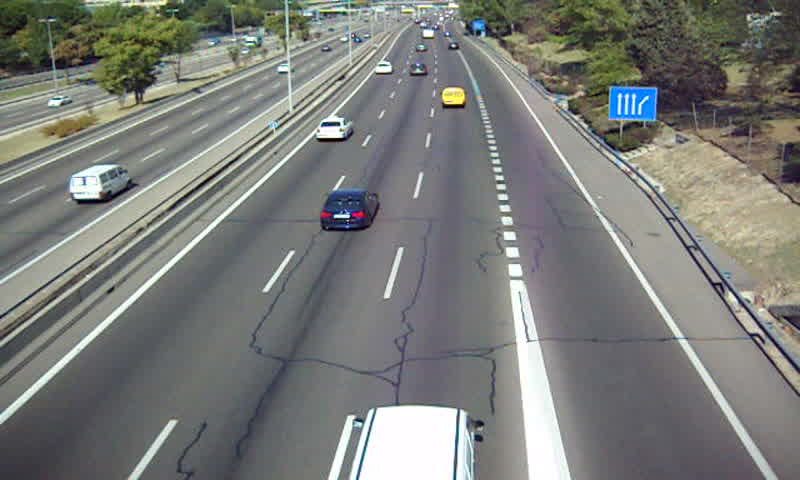car: (320, 188, 378, 232), (314, 117, 354, 140), (408, 62, 431, 77), (373, 61, 393, 76)
van: (441, 87, 467, 107)
